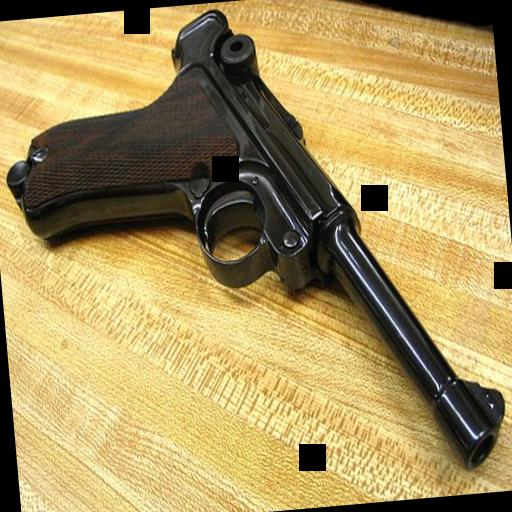Handgun: (0, 0, 504, 504)
